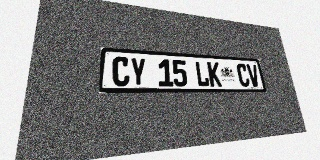1: (157, 59, 174, 87)
5: (172, 60, 188, 87)
C: (112, 56, 130, 86), (236, 63, 250, 87)
K: (207, 62, 222, 87)
L: (194, 61, 210, 87)
V: (246, 64, 261, 87)
Y: (130, 57, 147, 86)
